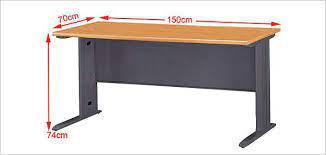desk: (40, 13, 292, 152)
